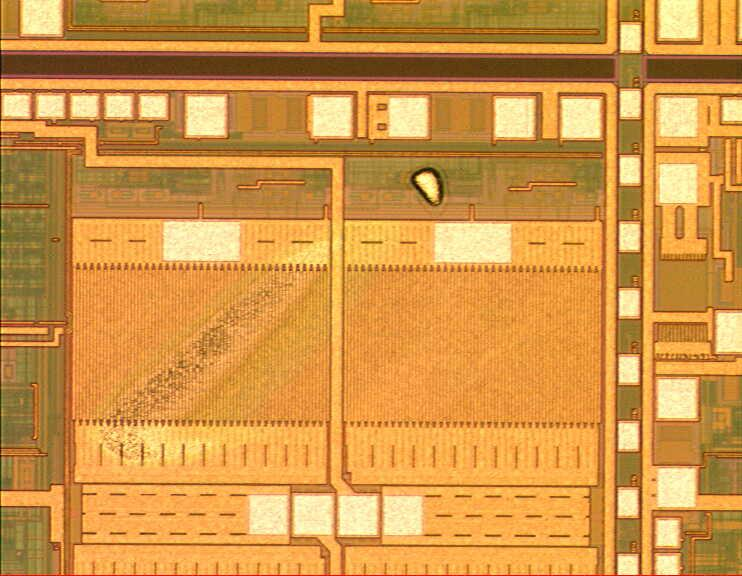COATING BAD: (75, 154, 466, 468)
